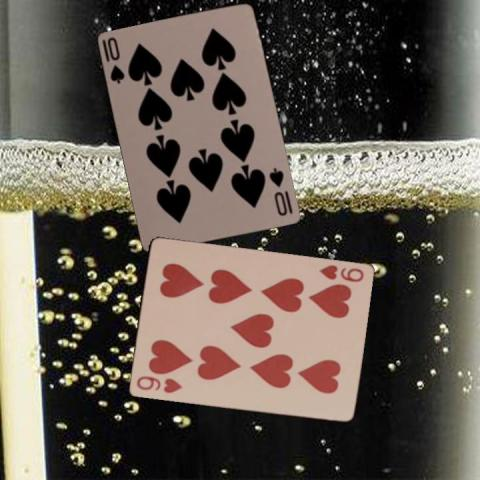10s: (99, 34, 127, 85), (266, 166, 289, 218)
9h: (133, 373, 183, 395), (315, 262, 365, 284)
